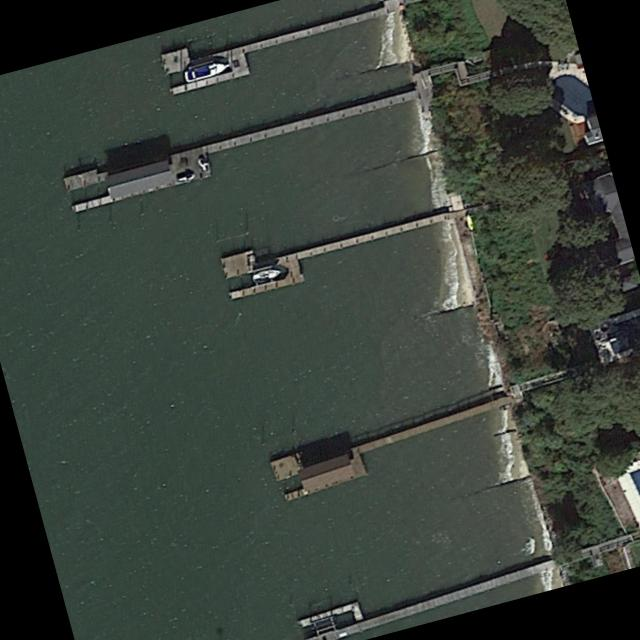ship: (184, 58, 231, 84), (251, 264, 286, 288)
